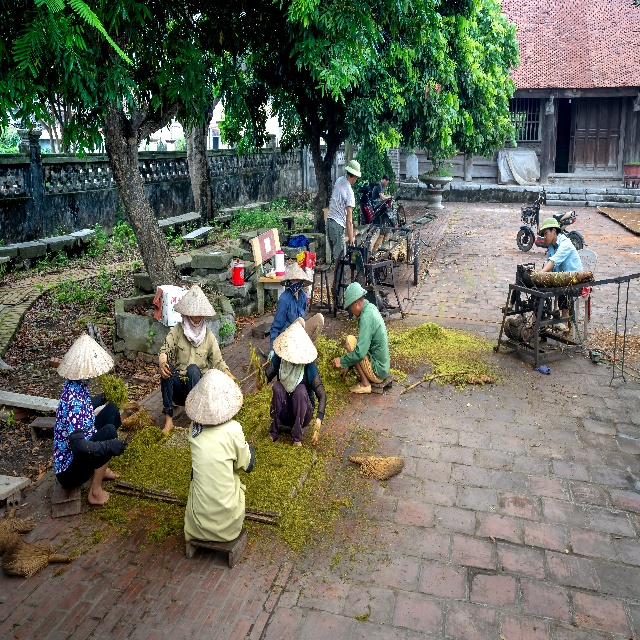Guantes: (73, 430, 127, 457), (91, 392, 106, 409), (267, 349, 274, 363)
Sin_guantes: (161, 363, 172, 379), (339, 366, 349, 382), (311, 427, 319, 446), (331, 356, 341, 370), (255, 376, 264, 391)
